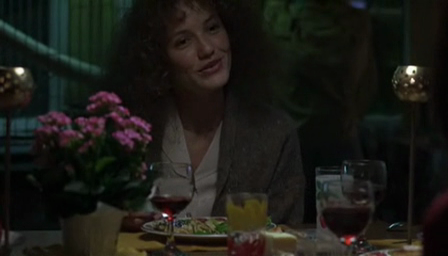face: (168, 8, 231, 91)
mcu: (1, 1, 448, 256)
person: (101, 1, 307, 232)
